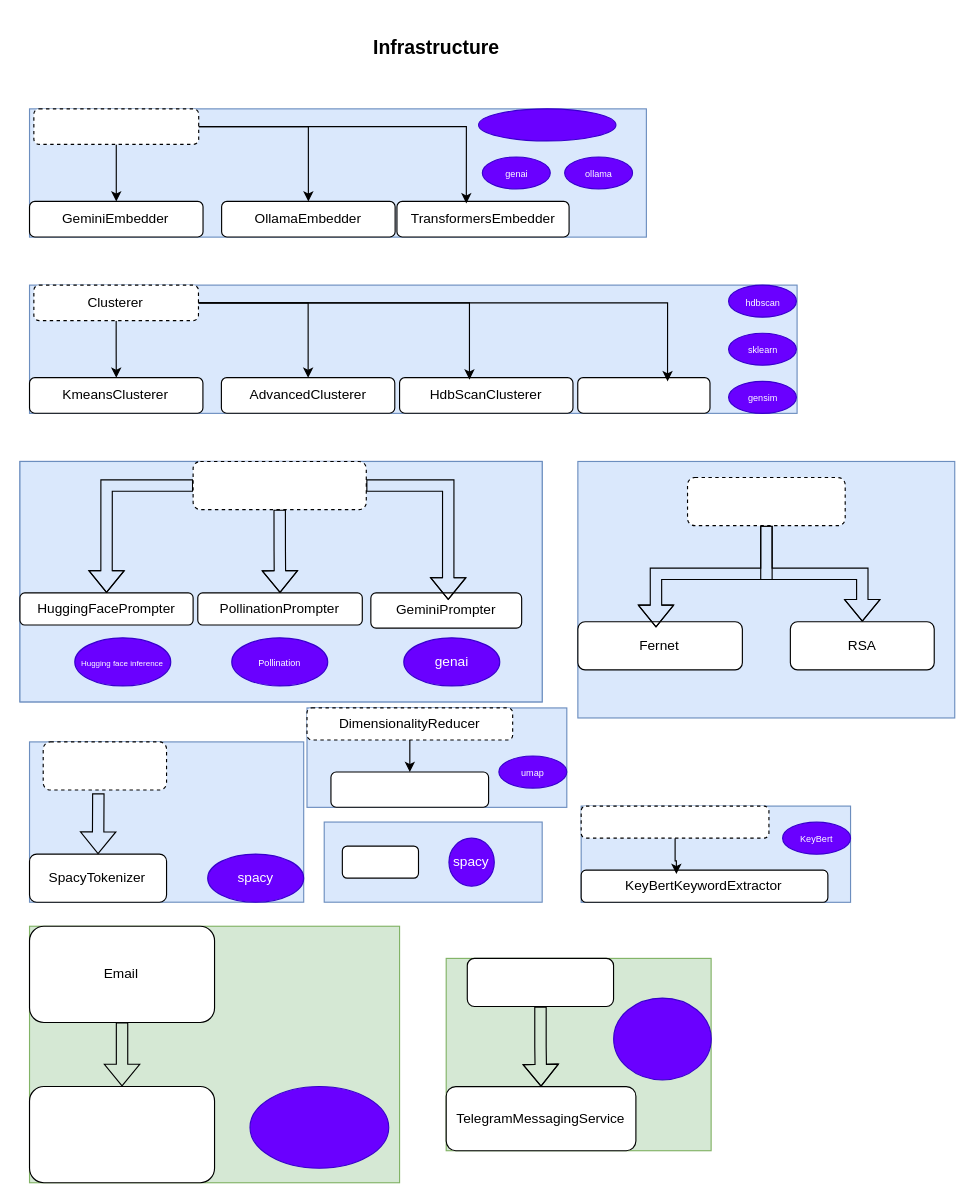
Image size: 975x1203. Some labels were removed from this diagram. The shapes that lost their labels are listed below. From the top down, each one's centre as x and y in pixels, then its label:
pixel 116 126: Embedder
pixel 546 124: sentence_transformers
pixel 643 395: LdaClusterer
pixel 279 485: Prompter
pixel 765 501: Encrypter
pixel 104 765: Tokenizer
pixel 409 789: UmapReducer
pixel 674 821: Keyword extraction
pixel 379 861: NER
pixel 540 982: Messaging
pixel 662 1038: telethon
pixel 121 1134: EmailImapService
pixel 319 1126: IMAPClient
